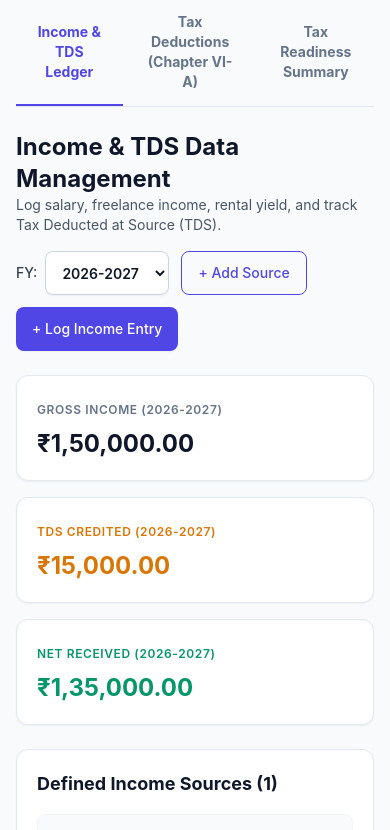
Scenario: IncomePage Component › opens add source modal on button click
The image size is (390, 830).
Click the button "+ Add Source" at [244, 273], box [181,251,307,295]
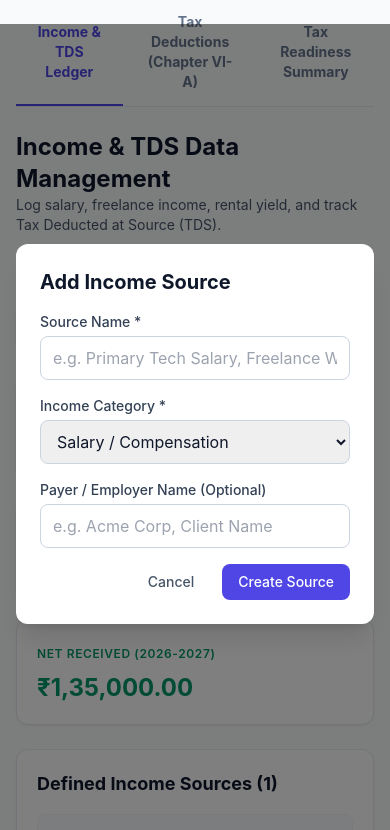
Expected: the heading "Add Income Source" is shown, [40,270,231,294]
Expected: the field with placeholder "e.g. Primary Tech Salary, Freelance Work" is shown, [40,336,350,380]
